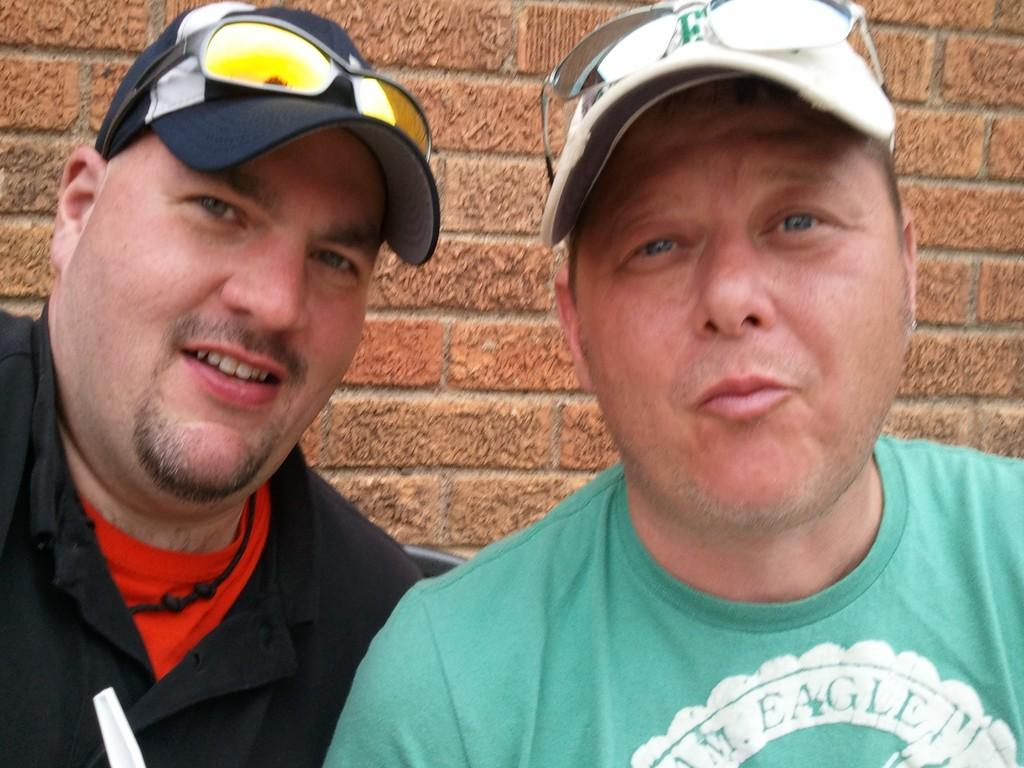Hat: (95, 1, 440, 267), (541, 0, 893, 250)
